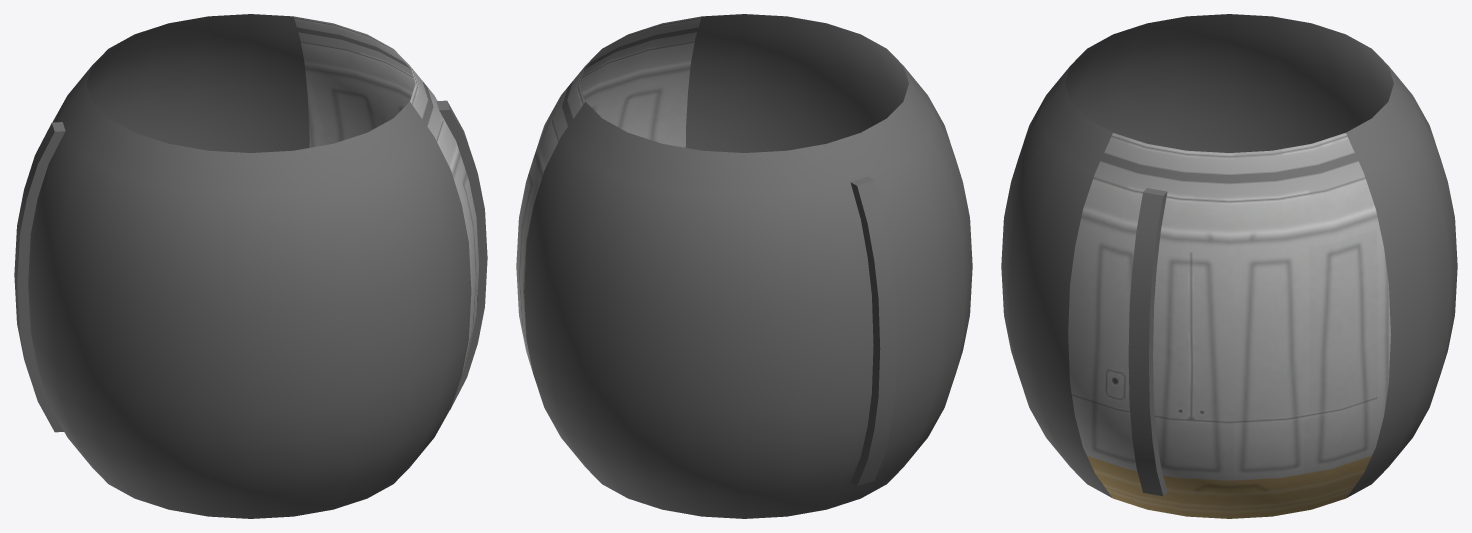
File: Hamal_Habitation_1.obj
3 views of the same model, side by side, from view 1: azimuth 30°, elevation 25°; view 2: azimuth 150°, elevation 25°; view 3: azimuth 270°, elevation 25° (orthographic).
Visible parts, largest first — view 1: Hamal_Habitation_1; view 2: Hamal_Habitation_1; view 3: Hamal_Habitation_1.
Part boxes in pixels (x1=…): Hamal_Habitation_1: x1=14, y1=14, x2=487, y2=518; Hamal_Habitation_1: x1=516, y1=14, x2=972, y2=518; Hamal_Habitation_1: x1=1001, y1=14, x2=1457, y2=518.
Bounding box in the file's own units: 1.3 × 1.15 × 1.3.
